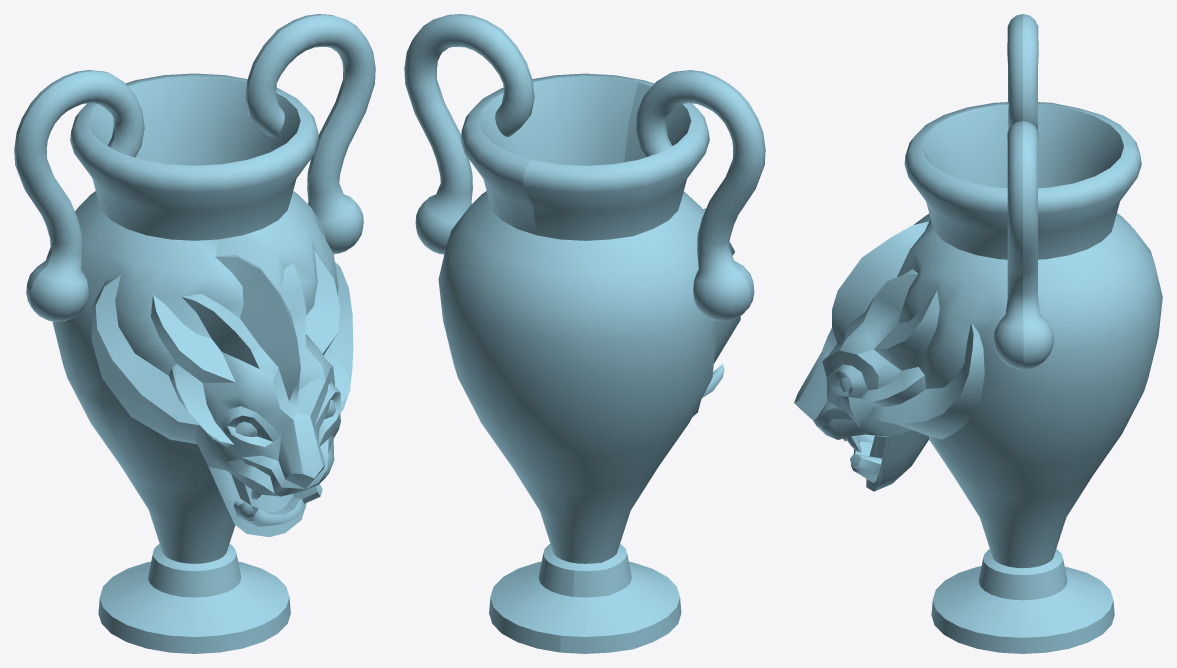
Rendered from SM_Lion_Cup_1.fbx.
3 renders of one model, left to right at view 1: azimuth 30°, elevation 25°; view 2: azimuth 150°, elevation 25°; view 3: azimuth 270°, elevation 25°, orthographic. The views are drawn at different scales.
Parts seen in each view (by area): view 1: SM_Lion_Cup_1; view 2: SM_Lion_Cup_1; view 3: SM_Lion_Cup_1.
Part boxes in pixels (<box>): SM_Lion_Cup_1: <box>14,14,375,653</box>; SM_Lion_Cup_1: <box>404,14,765,653</box>; SM_Lion_Cup_1: <box>794,14,1162,653</box>.
Bounding box in the file's own units: 0.4283 × 0.6525 × 0.4022.
